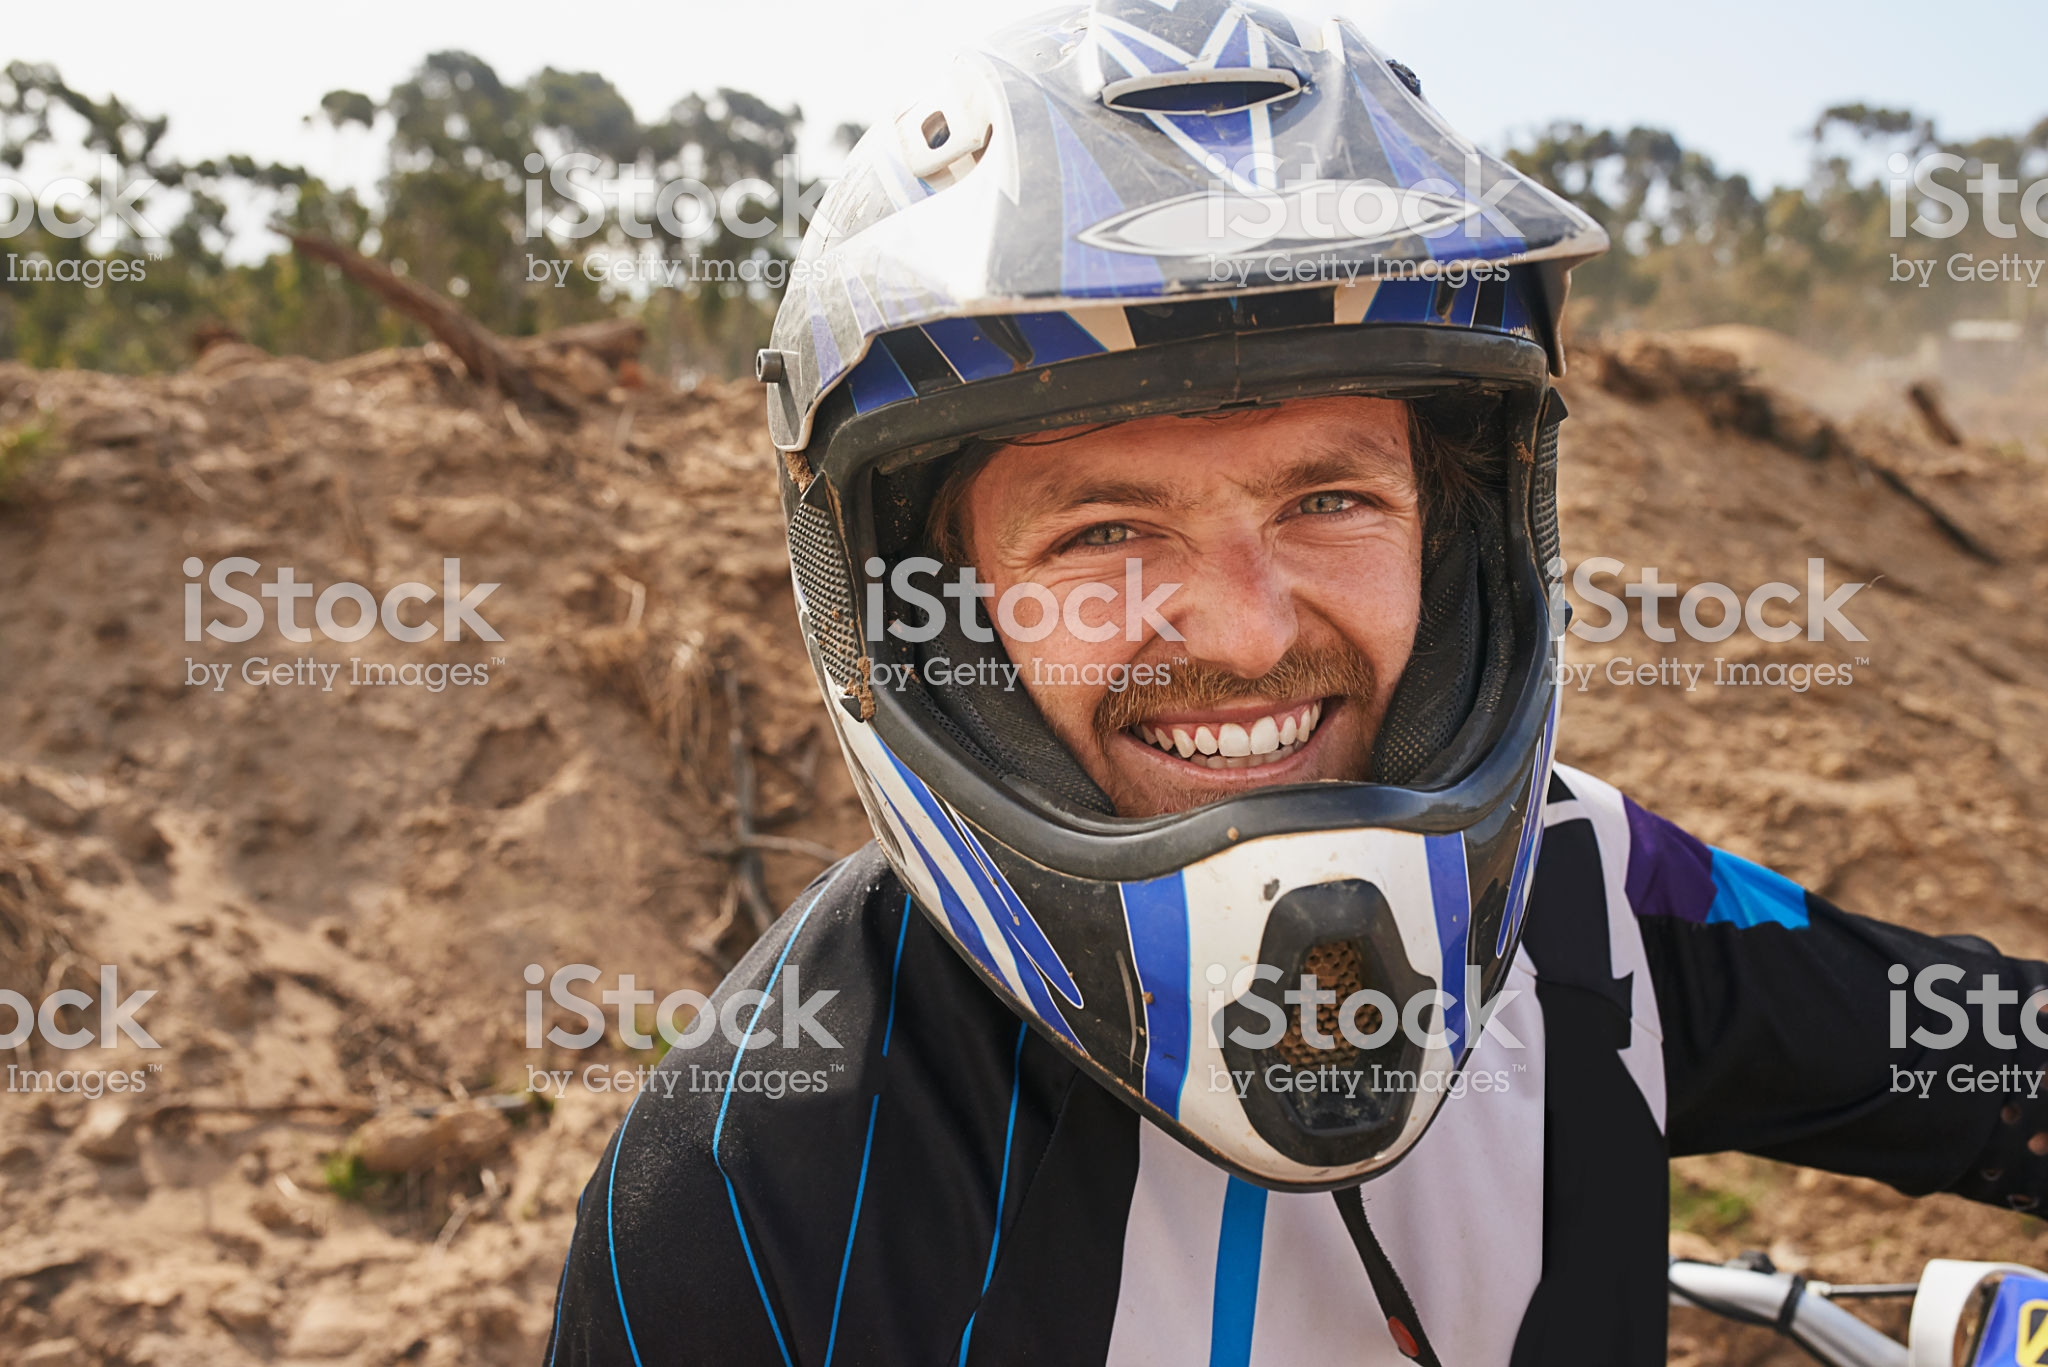helmet: (750, 79, 1610, 1170)
